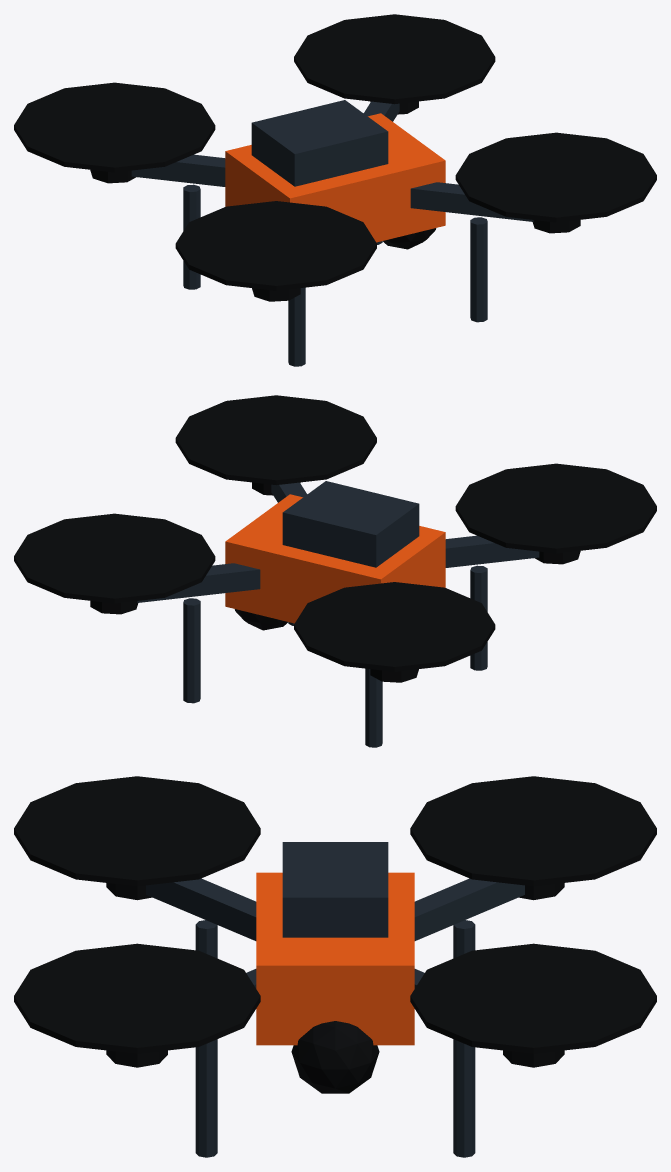
The model's file is dron.obj.
3 views of the same model, one above another, from view 1: azimuth 30°, elevation 25°; view 2: azimuth 150°, elevation 25°; view 3: azimuth 270°, elevation 25° (orthographic). The views are drawn at different scales.
Visible parts, largest first — view 1: dron; view 2: dron; view 3: dron.
Part boxes in pixels (<box>): dron: <box>14,14,656,366</box>; dron: <box>14,395,656,747</box>; dron: <box>14,776,656,1157</box>.
Size of the model in its own units: 1.46 by 0.55 by 1.46.
